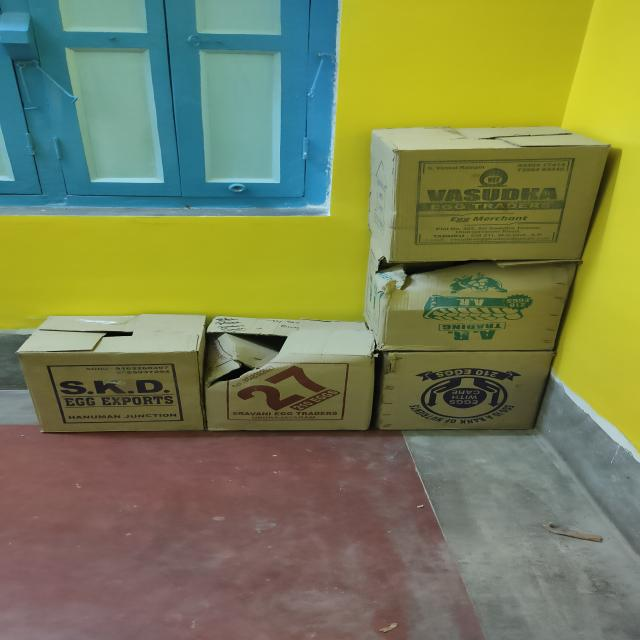squeeze: (331, 242, 523, 296), (160, 317, 308, 382)
